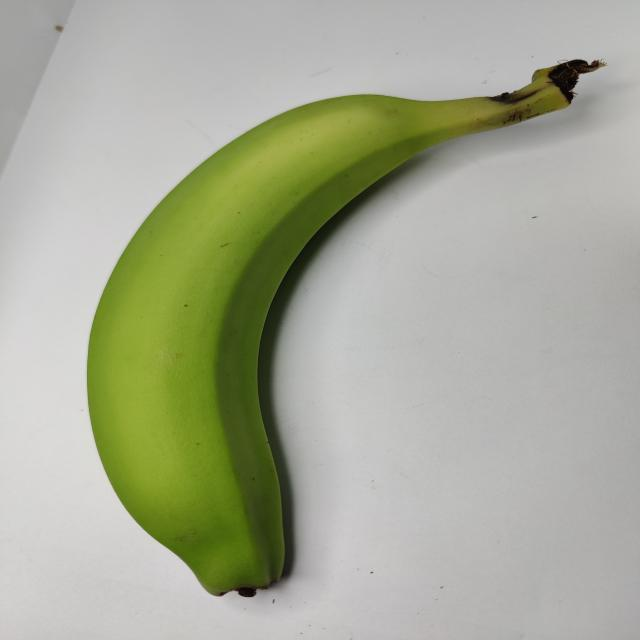raw: (43, 50, 617, 603)
